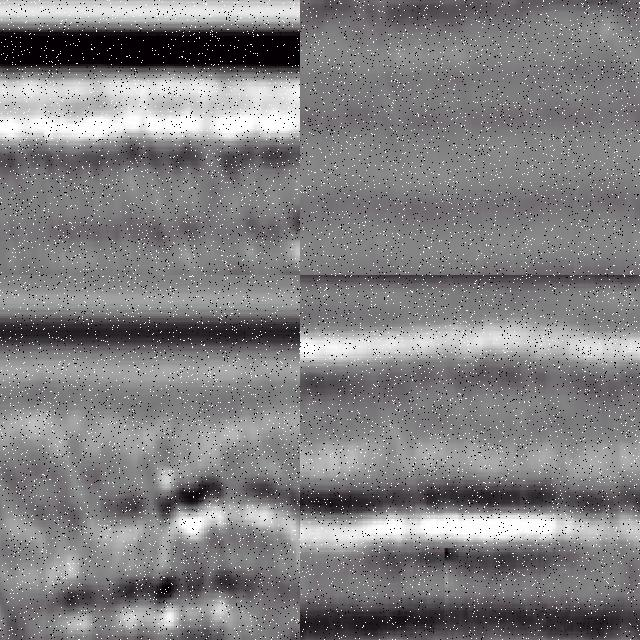loose: (43, 442, 301, 640), (1, 517, 78, 640)
